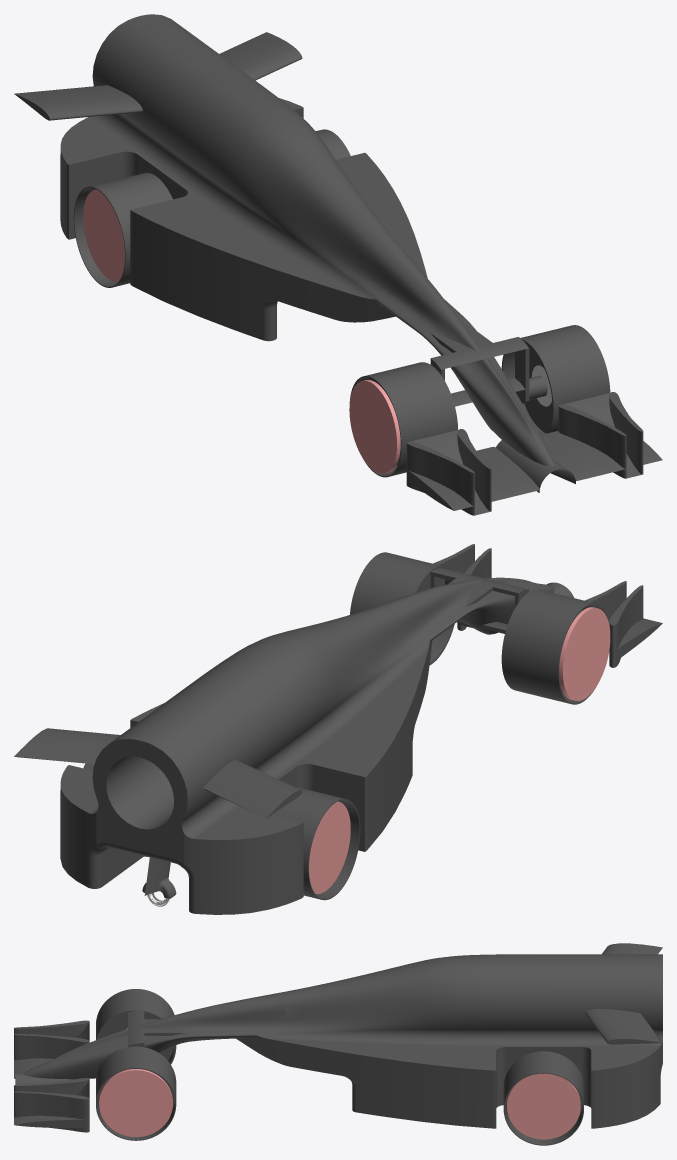
3 renders of one model, top to bottom at view 1: azimuth 30°, elevation 25°; view 2: azimuth 150°, elevation 25°; view 3: azimuth 270°, elevation 25°, orthographic. The views are drawn at different scales.
Parts seen in each view (by area): view 1: Chassis, Nase, Rad.003, Rad.002, Rad, Body1.002, Body1.011, Body1.008; view 2: Chassis, Nase, Rad.002, Rad.003, Body1.011, Rad, Body1.002, Body1.008; view 3: Chassis, Nase, Body1.010, Body1.009, Body1.001, Rad.001, Rad.003, Rad.002.
Boxes of the visible parts, <box> form: Chassis: <box>14,14,425,341</box>; Nase: <box>340,237,662,515</box>; Rad.003: <box>501,325,610,434</box>; Rad.002: <box>349,362,458,477</box>; Rad: <box>73,172,172,287</box>; Body1.002: <box>67,149,193,285</box>; Body1.011: <box>349,380,400,473</box>; Body1.008: <box>83,189,124,281</box>; Chassis: <box>14,606,425,914</box>; Nase: <box>377,544,662,688</box>; Rad.002: <box>501,589,610,704</box>; Rad.003: <box>350,552,454,664</box>; Body1.011: <box>559,607,610,700</box>; Rad: <box>272,786,360,900</box>; Body1.002: <box>240,761,366,897</box>; Body1.008: <box>309,801,350,893</box>; Chassis: <box>286,943,662,1128</box>; Nase: <box>14,991,286,1132</box>; Body1.010: <box>99,1069,172,1137</box>; Body1.009: <box>507,1073,580,1139</box>; Body1.001: <box>493,1045,594,1128</box>; Rad.001: <box>503,1051,583,1145</box>; Rad.003: <box>96,1046,176,1140</box>; Rad.002: <box>96,989,176,1064</box>.
Bounding box in the file's own units: 0.0689 × 0.1977 × 0.0479.
